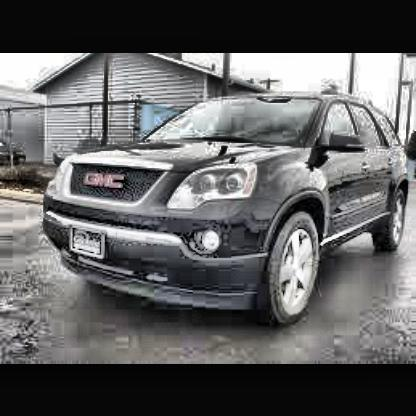GMC Acadia SUV 2012: (40, 85, 416, 325)
